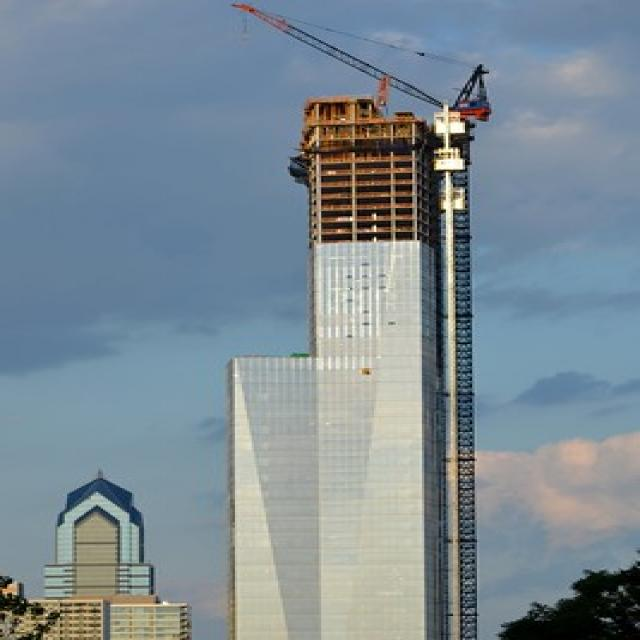Normal_building: (217, 86, 497, 640)
